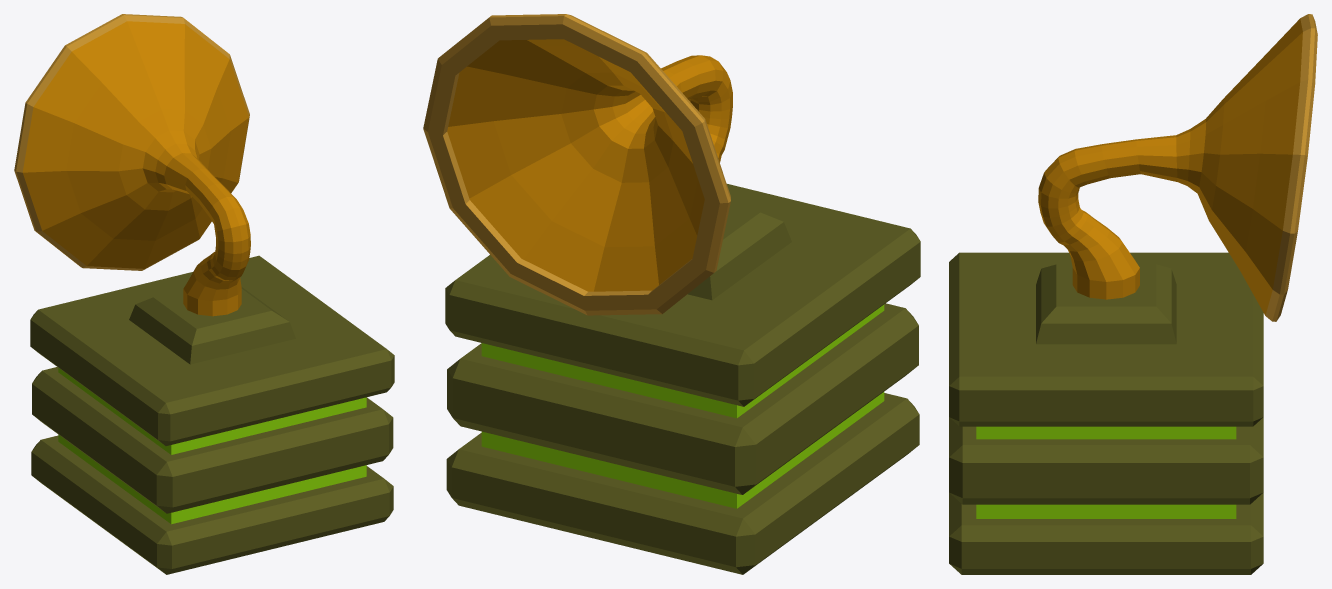
Rendered from Replanter.fbx.
3 views of the same model, side by side, from view 1: azimuth 30°, elevation 25°; view 2: azimuth 150°, elevation 25°; view 3: azimuth 270°, elevation 25° (orthographic). The views are drawn at different scales.
Visible parts, largest first — view 1: Crate, Planter; view 2: Crate, Planter; view 3: Crate, Planter.
Boxes of the visible parts, box(x1,y1,x2,y2) form: Crate: box(30, 255, 394, 574); Planter: box(14, 14, 250, 316); Crate: box(445, 184, 920, 574); Planter: box(423, 14, 732, 315); Crate: box(949, 252, 1263, 574); Planter: box(1038, 14, 1317, 321).
Size of the model in its own units: 71.54 by 122 by 83.87.
